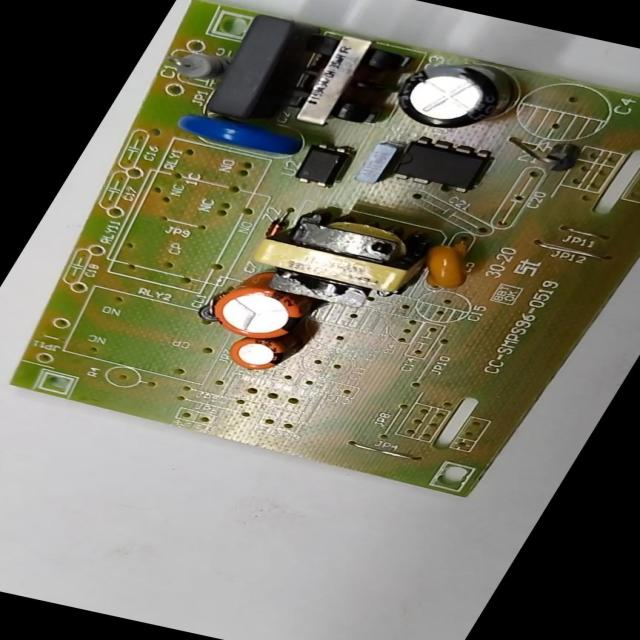Cap1: (202, 283, 312, 344)
Cap2: (221, 336, 289, 373)
Cap3: (384, 57, 512, 136)
MOSFET: (388, 135, 496, 196)
Mov: (172, 111, 306, 158)
Resistor: (163, 49, 227, 82)
Transformer: (242, 200, 429, 306), (273, 31, 417, 132)
